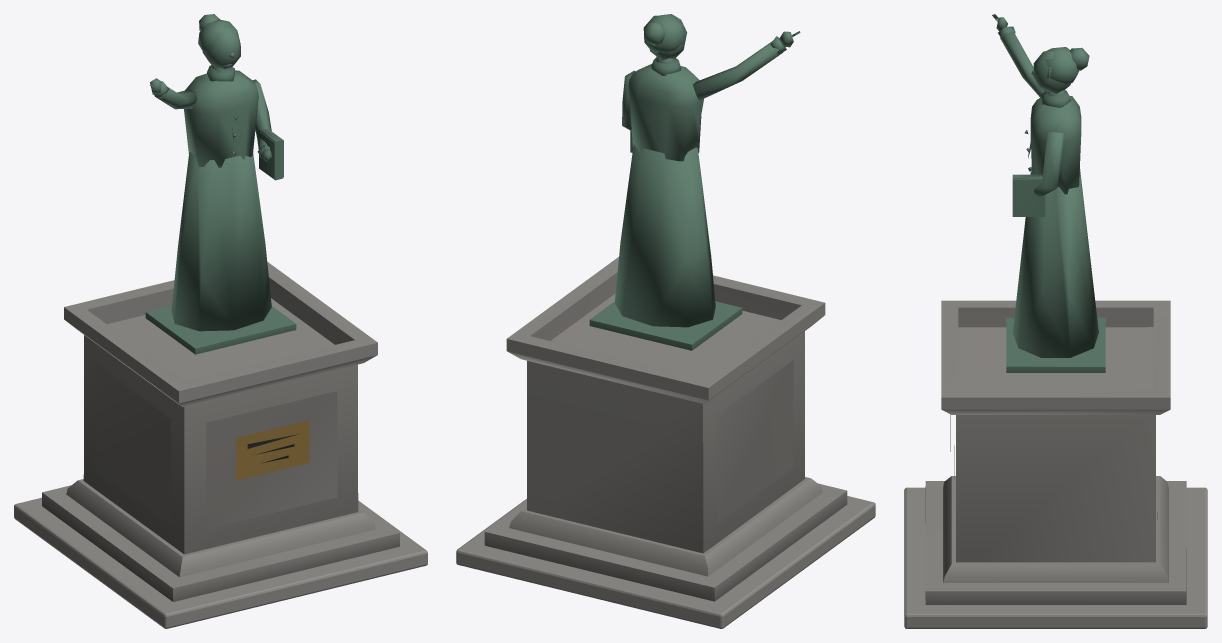
Rendered from townStatue.far.glb.
The picture shows the model from 3 angles, left to right: view 1: azimuth 30°, elevation 25°; view 2: azimuth 150°, elevation 25°; view 3: azimuth 270°, elevation 25°; orthographic projection.
Parts seen in each view (by area): view 1: townStatue_far; view 2: townStatue_far; view 3: townStatue_far.
Part boxes in pixels (<box>): townStatue_far: <box>14,14,427,628</box>; townStatue_far: <box>456,14,875,628</box>; townStatue_far: <box>904,14,1207,628</box>.
Size of the model in its own units: 1.8 by 3.39 by 1.8.
